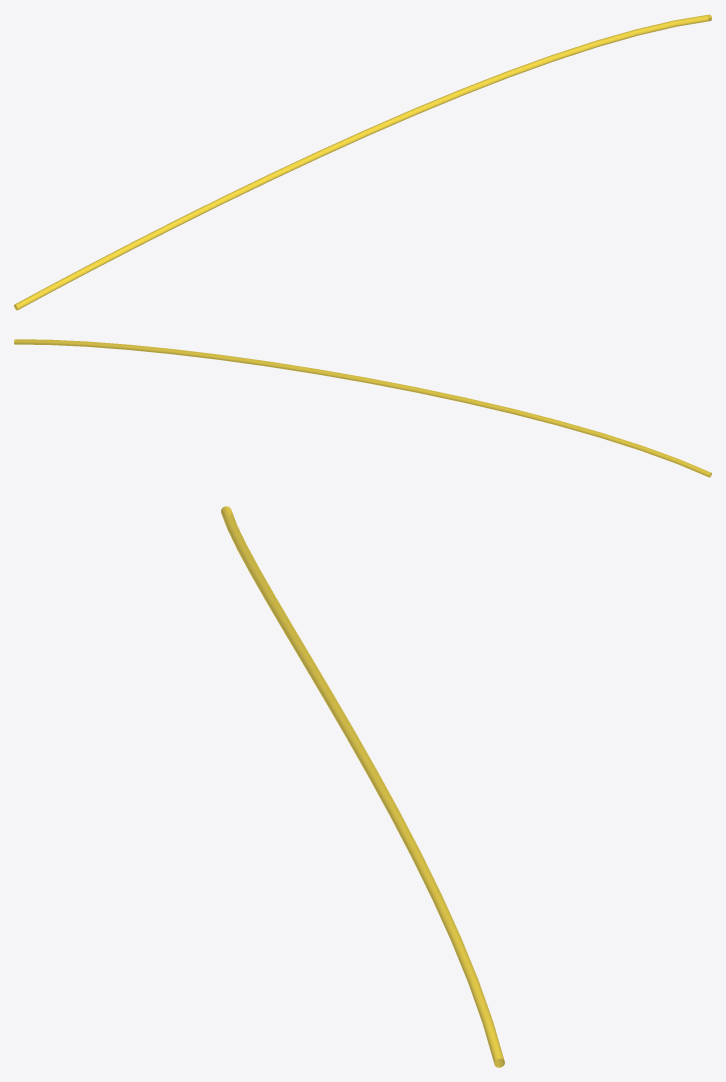
File: Event_100608114_track_103.fbx
3 views of the same model, one above another, from view 1: azimuth 30°, elevation 25°; view 2: azimuth 150°, elevation 25°; view 3: azimuth 270°, elevation 25° (orthographic). The views are drawn at different scales.
Visible parts, largest first — view 1: Model; view 2: Model; view 3: Model.
Part boxes in pixels (x1,y1,x2,y2): Model: (14, 14, 711, 310); Model: (14, 339, 711, 477); Model: (221, 506, 504, 1067).
Size of the model in its own units: 5.39 by 0.4048 by 1.06.
